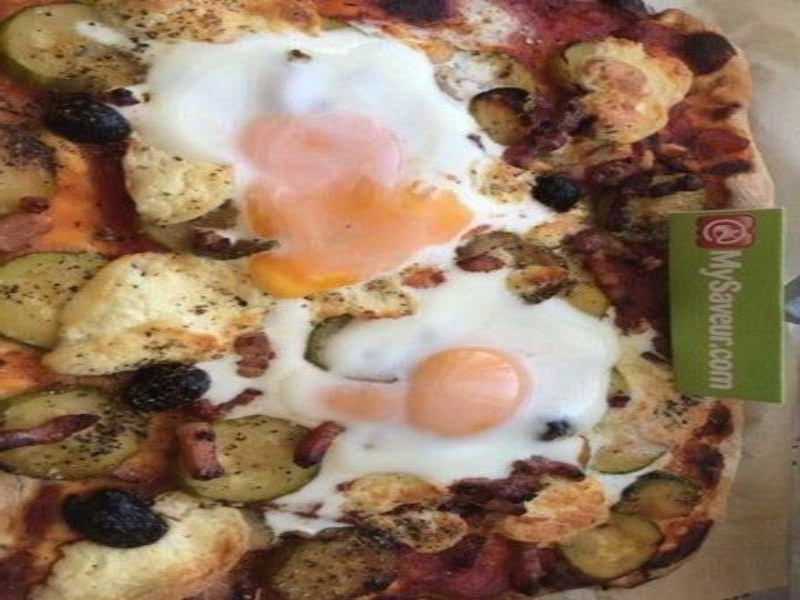oeuf: (242, 91, 438, 280), (379, 330, 545, 471)
